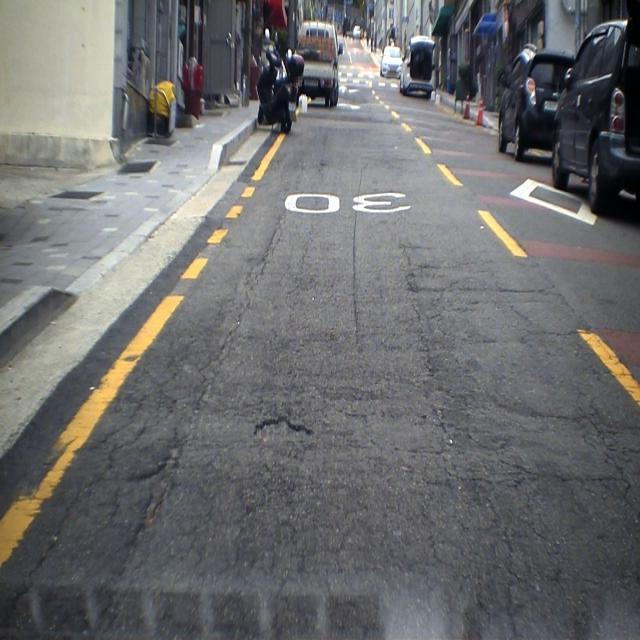pothole: (128, 434, 191, 542), (250, 403, 322, 450)
